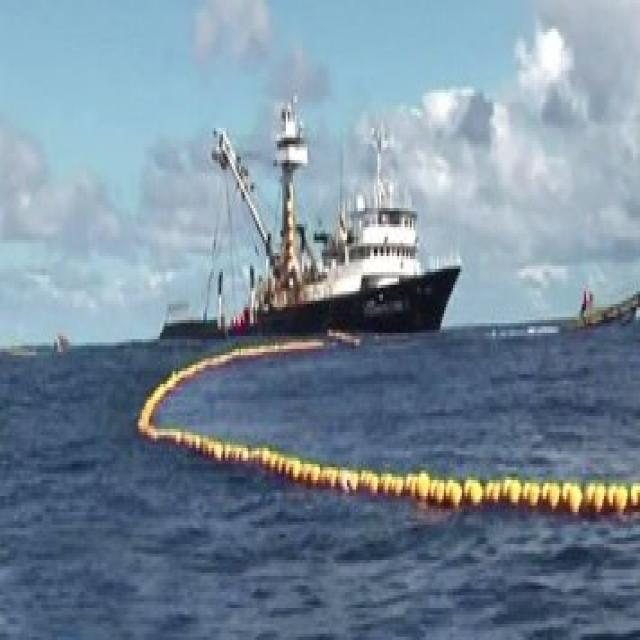Ship: (134, 84, 474, 347)
